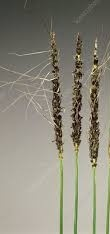Wheat Loose Smut: (44, 31, 110, 163)
